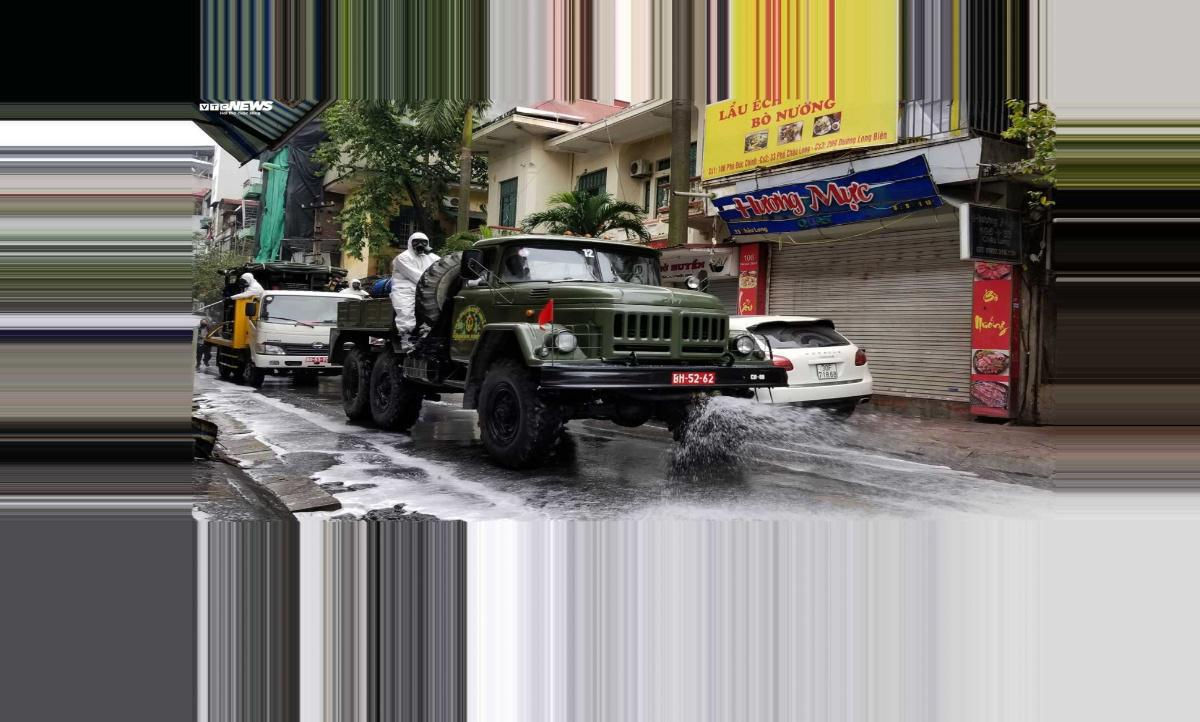License_Plate: (668, 369, 719, 387), (308, 355, 329, 367)
